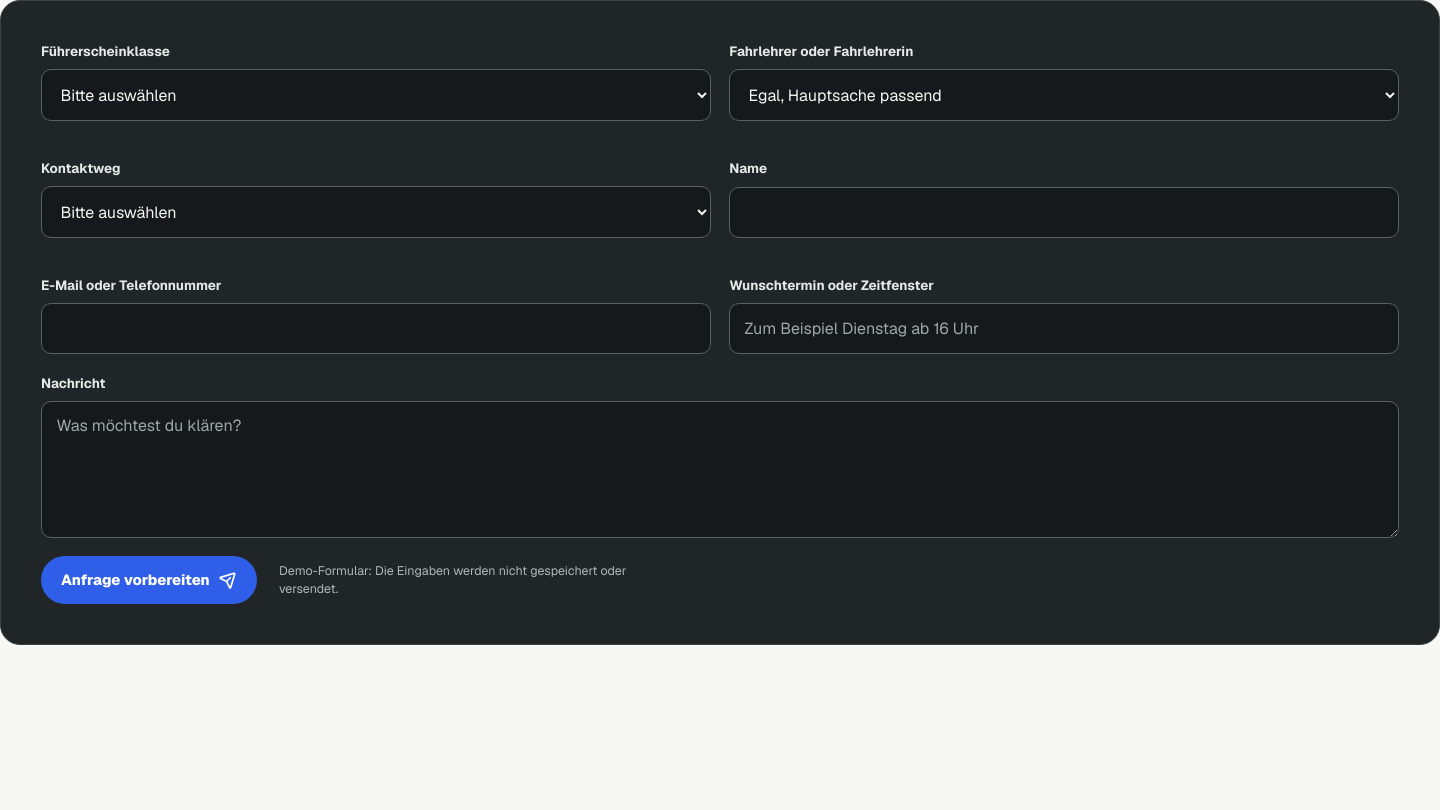
Scenario: BookingForm › shows an honest demo success state without claiming a send
Select "B197" in the dropdown labelled "Führerscheinklasse": (376, 95) [41, 69, 711, 121]
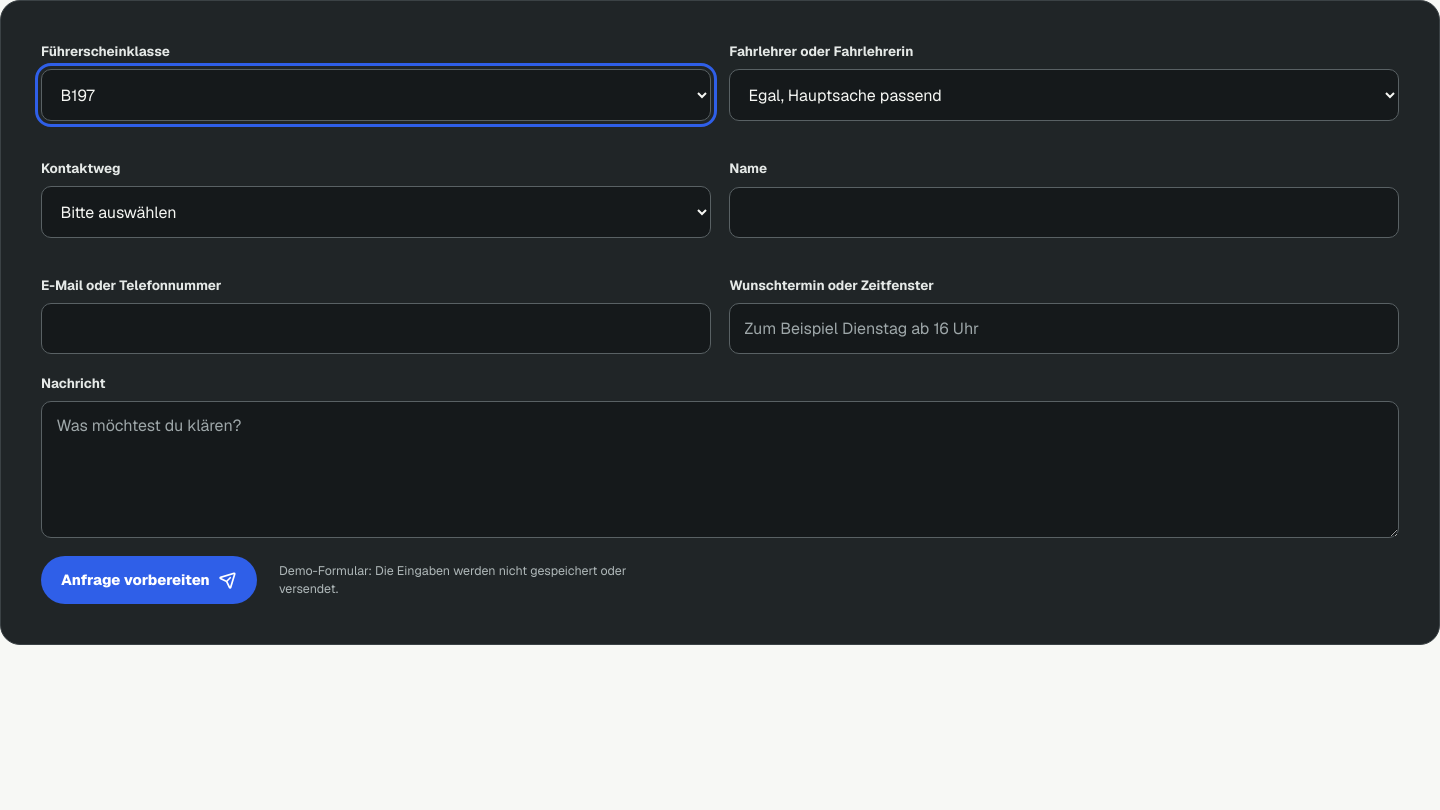
Select "E-Mail" in the dropdown labelled "Kontaktweg": (376, 212) [41, 186, 711, 238]
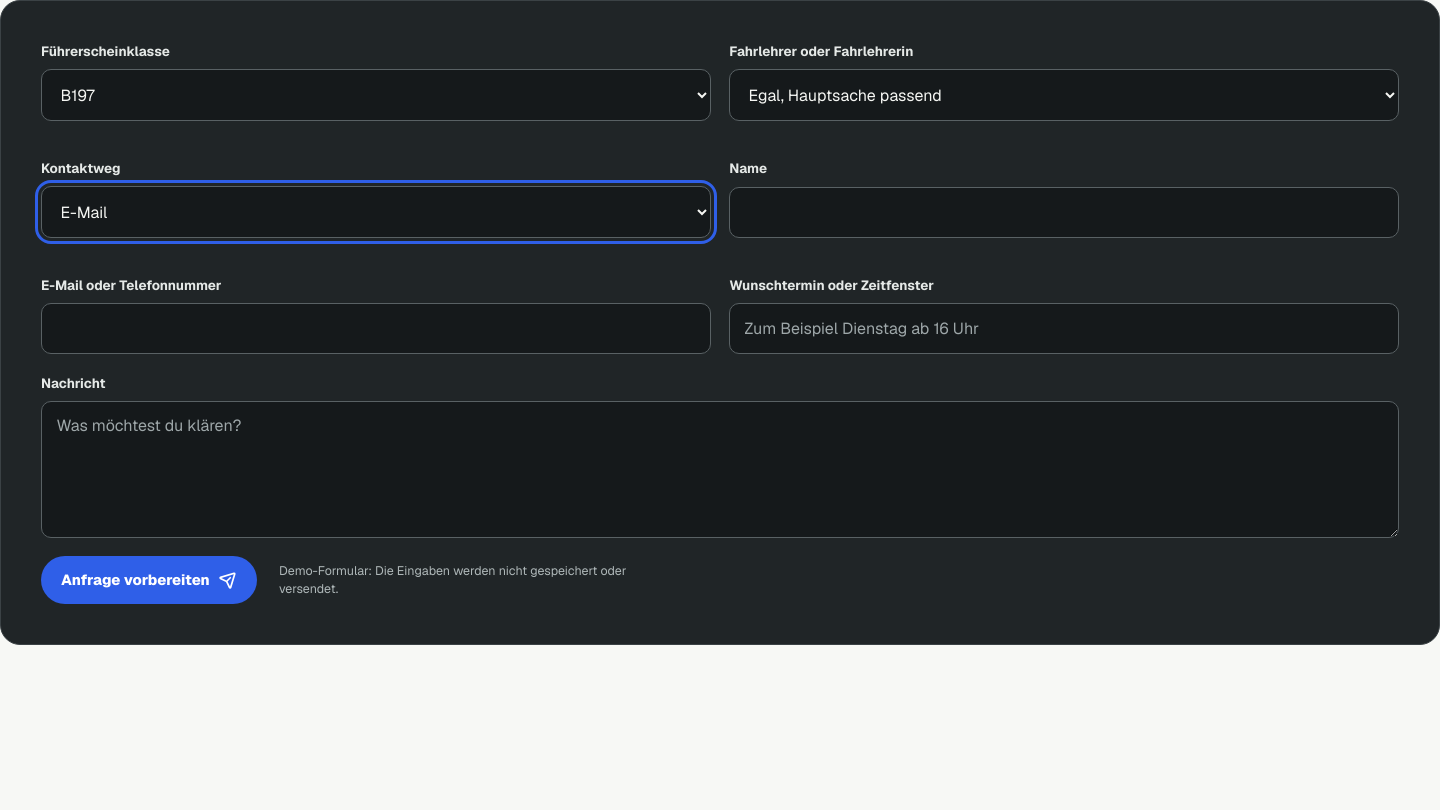
In the field labelled "Name": (1064, 213) [729, 187, 1399, 238], type "Qaiser Barto"
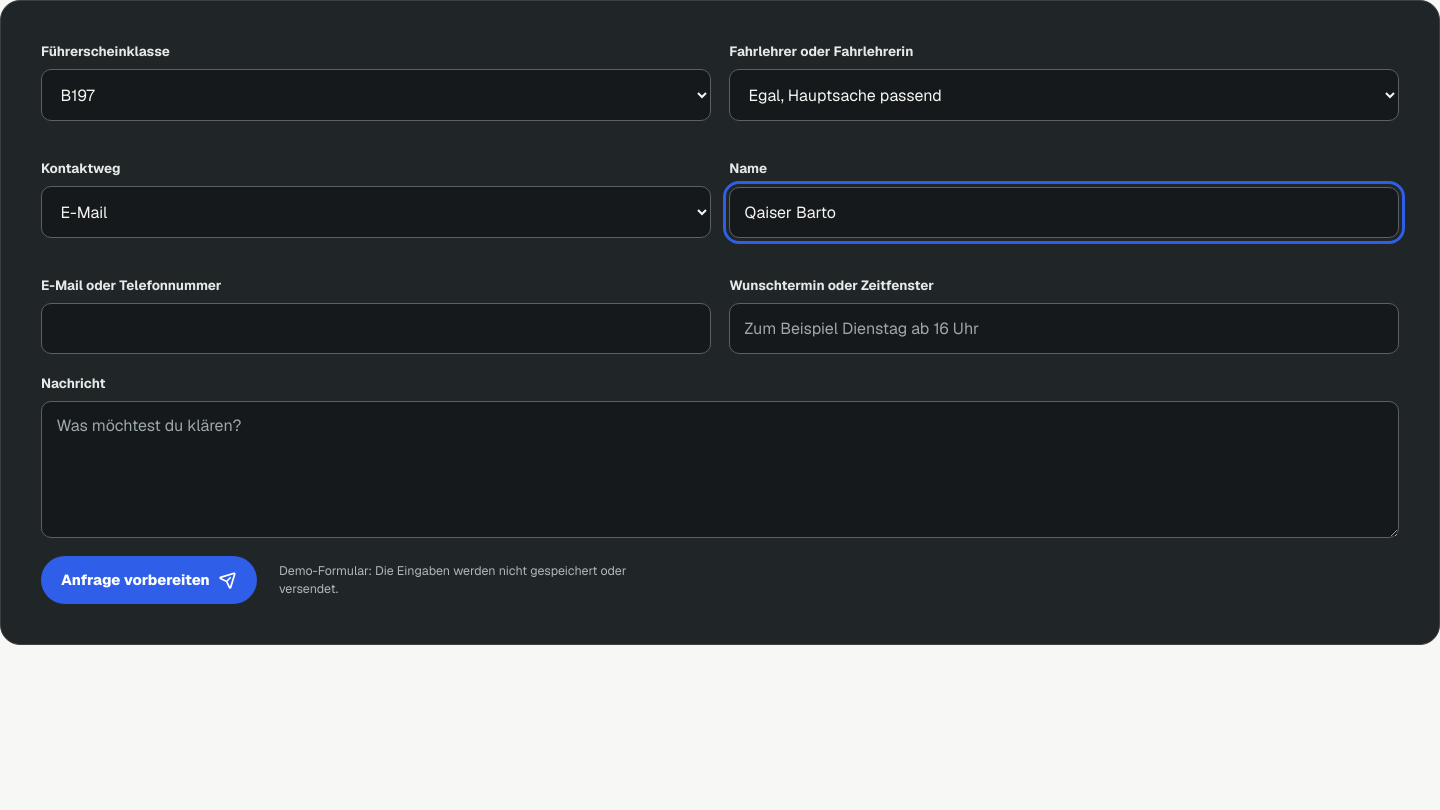
In the field labelled "E-Mail oder Telefonnummer": (376, 329) [41, 303, 711, 354], type "qaiser@example.de"
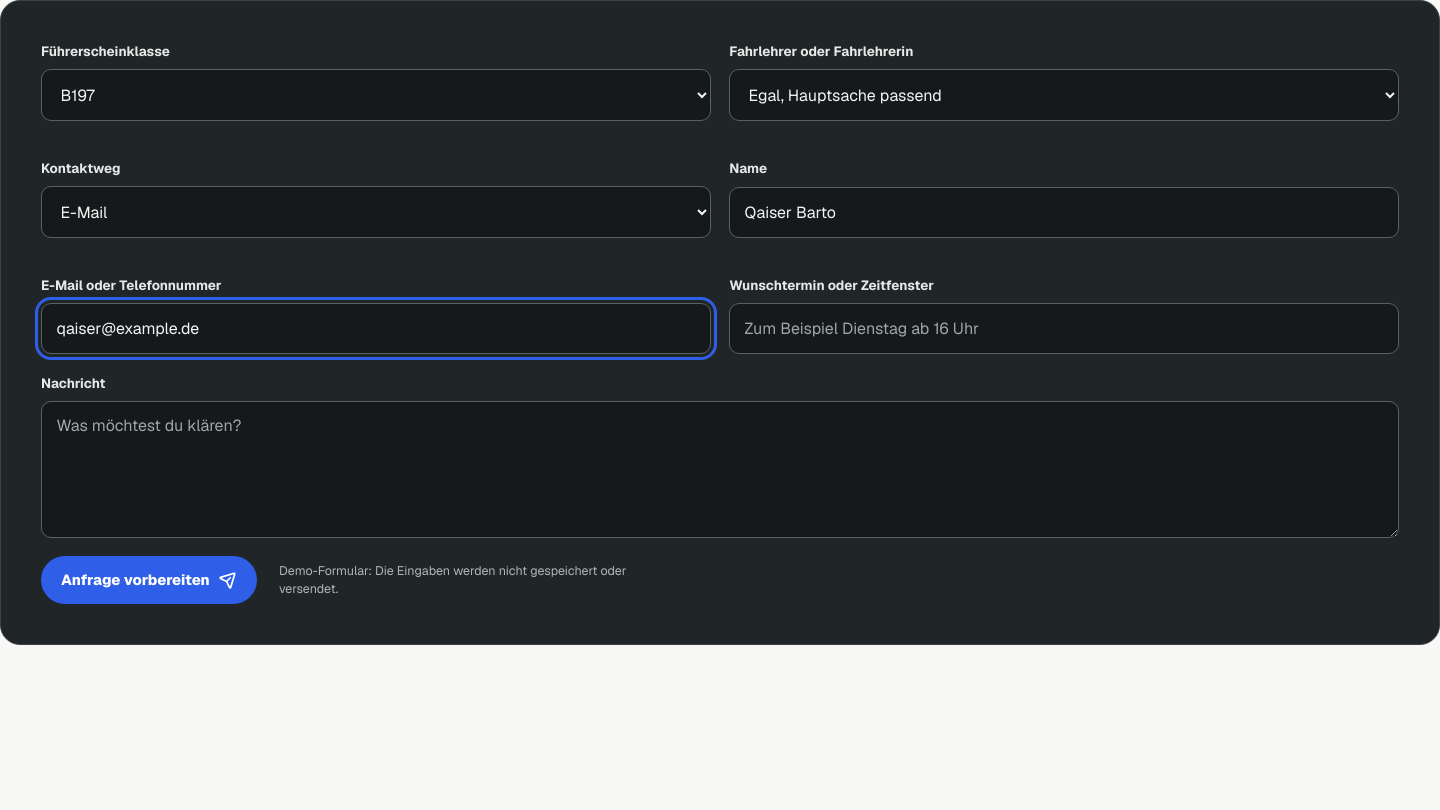
In the text box labelled "Nachricht": (720, 469) [41, 401, 1399, 538], type "Ich möchte mich zu B197 beraten lassen."
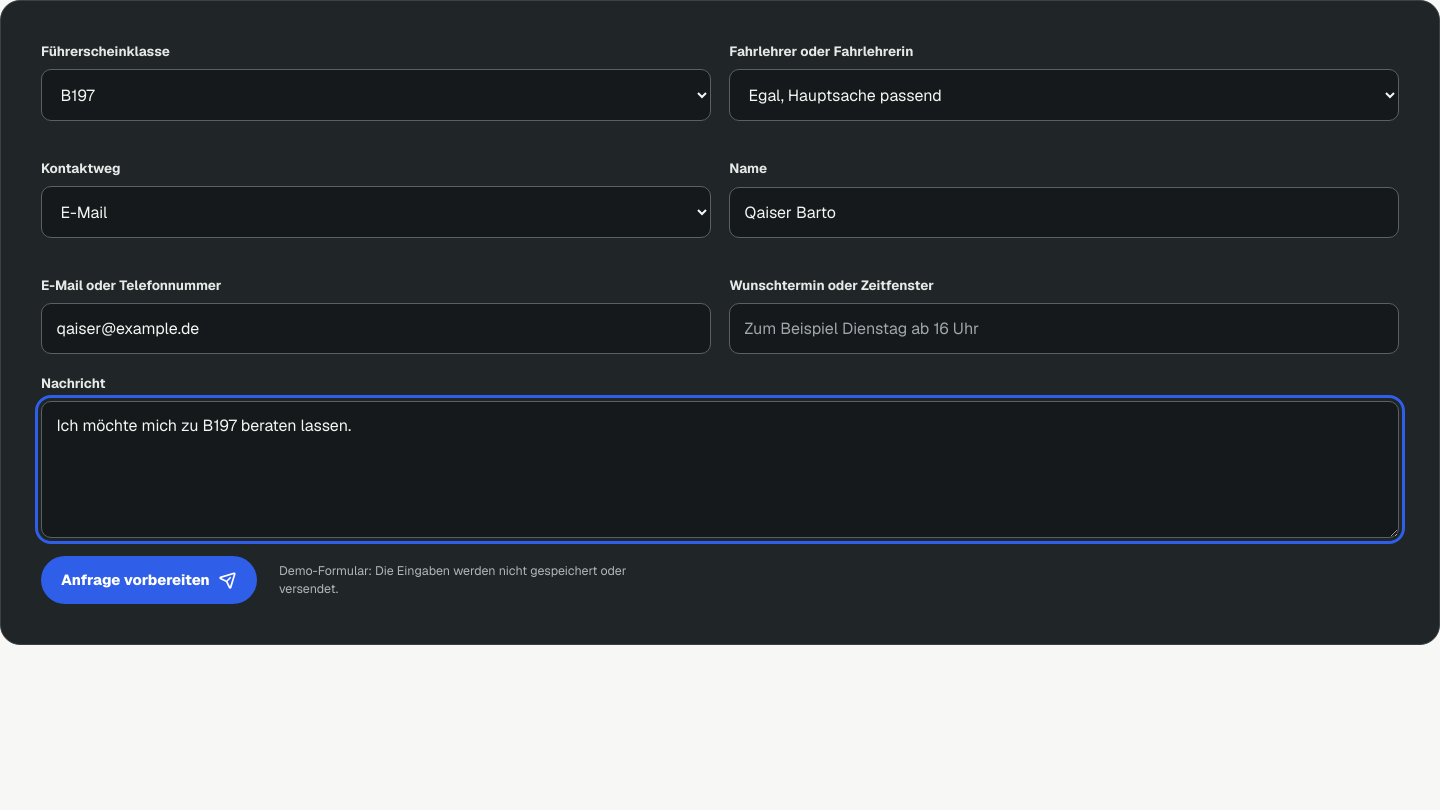
Click the button "Anfrage vorbereiten": (149, 580) [41, 556, 257, 604]
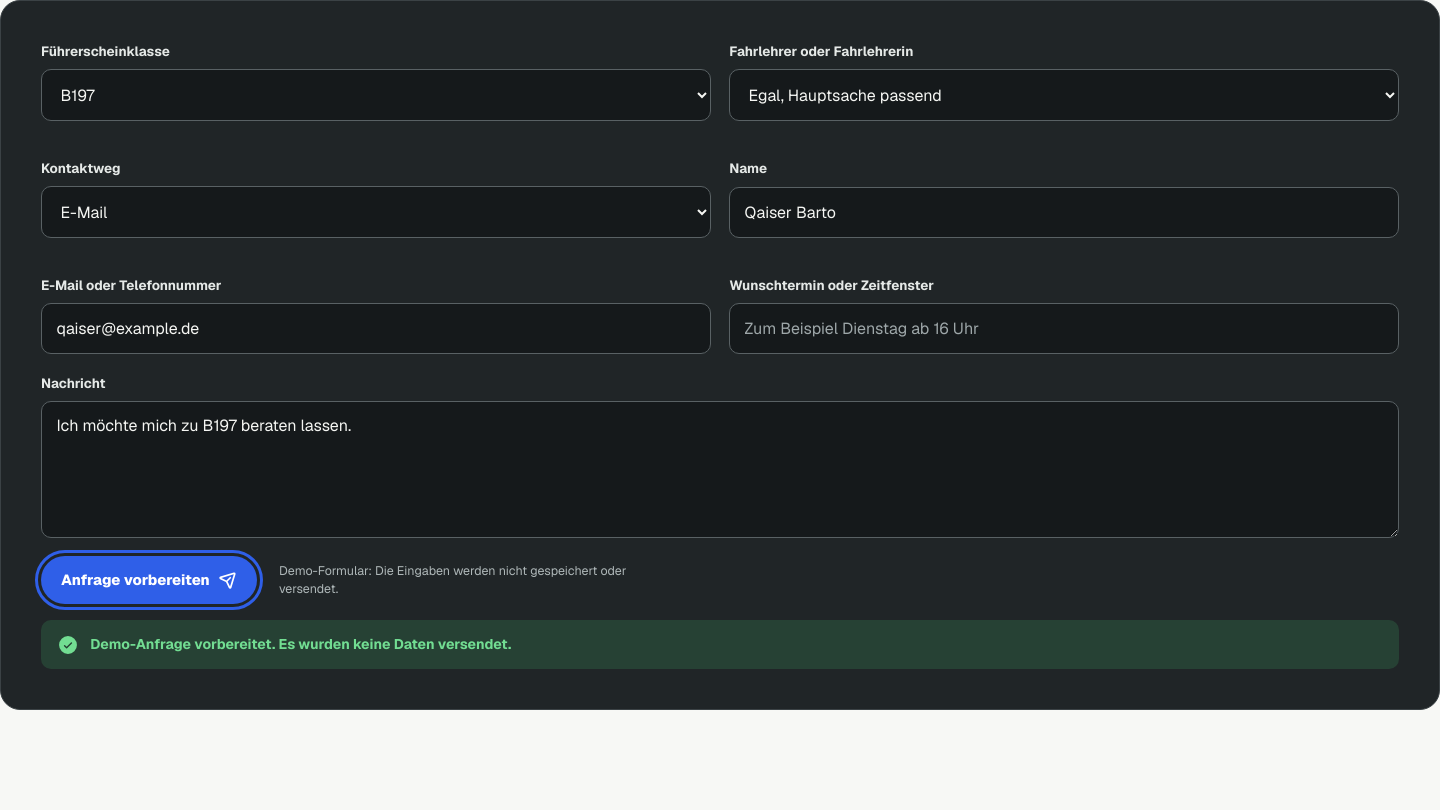
Now the text "Demo-Anfrage vorbereitet. Es wurden keine Daten versendet." is shown, box [90, 634, 511, 655]
